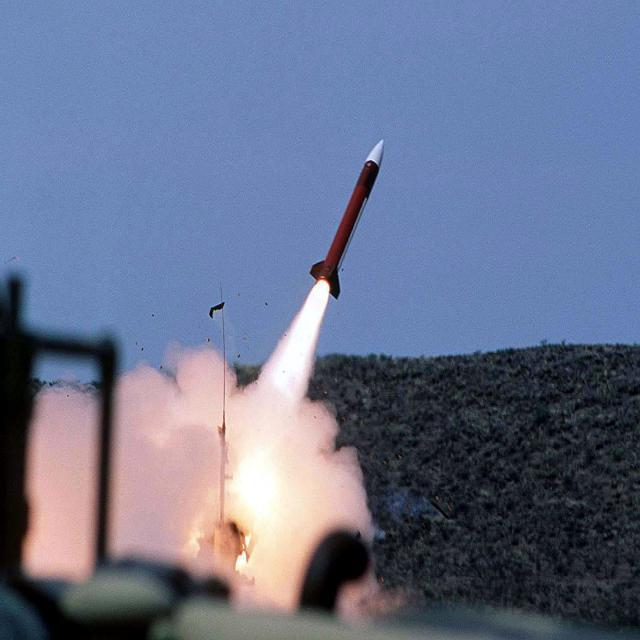Missile: (309, 124, 393, 322)
